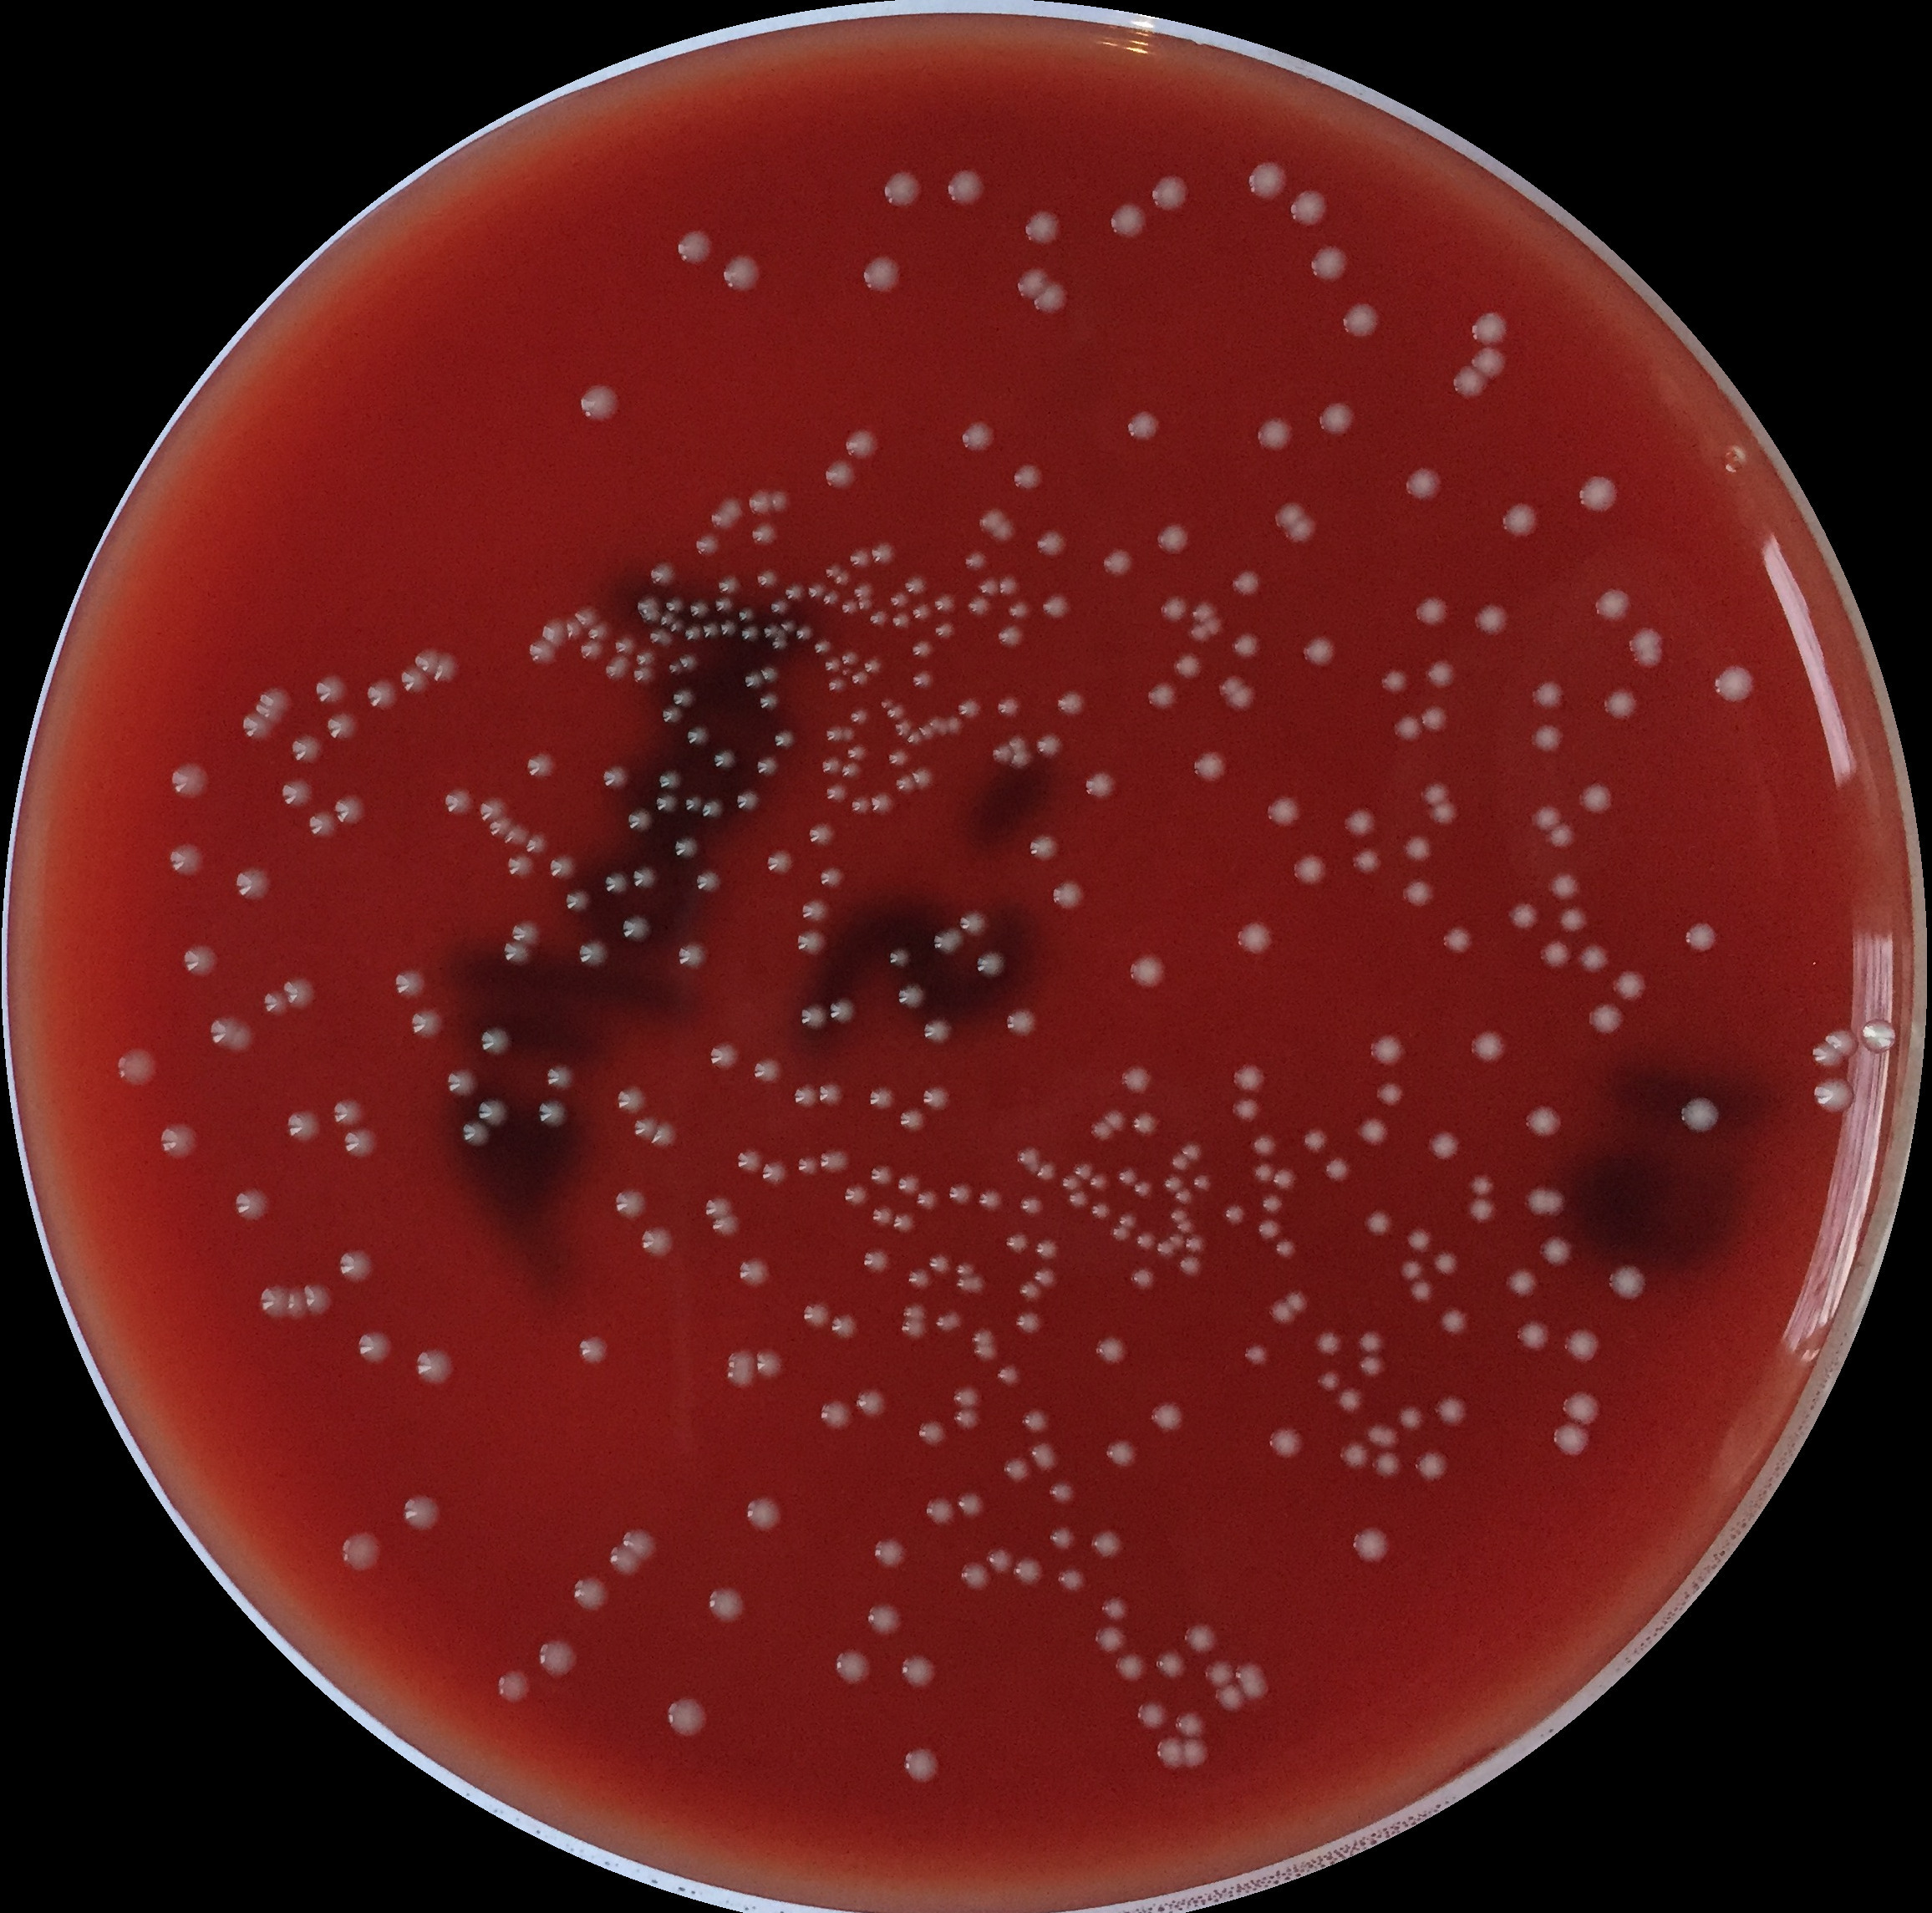sp21: (958, 1545, 1018, 1591), (858, 251, 909, 298), (878, 165, 925, 212), (662, 1694, 711, 1740), (575, 380, 625, 424), (1711, 660, 1757, 708), (112, 1044, 159, 1090), (1019, 203, 1068, 247), (1244, 159, 1293, 203), (720, 252, 765, 298), (338, 1529, 384, 1575), (674, 222, 718, 270), (944, 165, 988, 212), (1312, 396, 1359, 440), (1403, 461, 1447, 508), (1573, 473, 1620, 515), (737, 1494, 786, 1535), (1561, 1323, 1604, 1366), (534, 1638, 578, 1682), (1146, 172, 1191, 214), (1286, 187, 1331, 229), (1468, 1025, 1513, 1067), (1548, 1419, 1594, 1461), (1233, 1655, 1275, 1699), (955, 417, 1000, 457), (1340, 298, 1380, 343), (1811, 1074, 1857, 1114), (1520, 1102, 1566, 1142), (702, 1585, 748, 1626), (900, 1743, 941, 1789), (571, 1573, 617, 1613), (1520, 1184, 1569, 1221), (1049, 874, 1091, 916), (1350, 1524, 1393, 1566), (1559, 1389, 1603, 1429), (1412, 1442, 1452, 1486), (1305, 242, 1350, 280), (168, 760, 214, 799), (1109, 200, 1149, 242), (1265, 1422, 1308, 1461), (897, 1650, 941, 1689), (413, 1347, 457, 1386), (1252, 417, 1298, 454), (1501, 499, 1541, 540), (1100, 1433, 1140, 1473), (1289, 850, 1331, 888), (1233, 920, 1275, 958), (832, 1647, 874, 1685), (860, 1601, 902, 1640), (1189, 748, 1233, 785), (156, 1121, 200, 1158), (1470, 308, 1510, 347), (1128, 951, 1168, 990), (1366, 1032, 1407, 1070), (871, 1535, 911, 1573), (620, 1524, 659, 1564), (280, 974, 321, 1013), (1678, 1095, 1720, 1132), (1361, 1419, 1403, 1456), (841, 426, 885, 461), (814, 1398, 858, 1433), (356, 1328, 394, 1366), (820, 455, 860, 492), (1450, 364, 1491, 401), (1858, 1014, 1899, 1051), (1604, 1261, 1645, 1298), (1147, 1398, 1188, 1435), (1086, 1524, 1126, 1561), (401, 1494, 441, 1531), (342, 1125, 382, 1161), (310, 671, 350, 708), (1263, 794, 1305, 829), (723, 1347, 758, 1389), (179, 942, 221, 978), (1032, 280, 1070, 317), (1594, 585, 1632, 622), (1601, 685, 1638, 724), (1682, 918, 1718, 956), (1426, 1128, 1464, 1165), (1534, 1233, 1573, 1270), (611, 1186, 650, 1223), (1118, 1060, 1156, 1097), (1012, 266, 1053, 301), (1468, 343, 1508, 378), (1576, 780, 1617, 815), (335, 1249, 375, 1284), (233, 865, 273, 900), (1079, 769, 1121, 802), (1473, 599, 1510, 636), (1611, 965, 1648, 1002), (1093, 1620, 1130, 1657), (233, 1186, 270, 1223), (1123, 406, 1161, 441), (1527, 720, 1566, 755), (1412, 590, 1450, 625), (1091, 1335, 1130, 1370), (1111, 1645, 1149, 1680), (1182, 1620, 1221, 1655), (1177, 1733, 1212, 1771), (639, 1223, 674, 1261), (166, 843, 205, 878), (289, 731, 328, 766), (1338, 806, 1378, 839), (1142, 678, 1182, 711), (734, 1253, 774, 1286), (406, 1006, 447, 1039), (275, 776, 315, 809), (1011, 457, 1047, 492), (1533, 680, 1569, 715), (1349, 843, 1386, 878), (1505, 900, 1541, 935), (1587, 1002, 1624, 1037), (1356, 1114, 1393, 1149), (1503, 1265, 1540, 1300), (1515, 1317, 1552, 1352), (1028, 1438, 1063, 1475), (974, 946, 1011, 981), (392, 965, 427, 1002), (524, 745, 561, 780), (1387, 711, 1426, 745), (1154, 1734, 1188, 1773), (1400, 878, 1440, 909), (1151, 1648, 1191, 1680), (208, 1013, 240, 1053), (1442, 923, 1477, 958), (921, 1494, 956, 1529), (256, 1284, 291, 1319), (576, 1333, 611, 1368), (676, 937, 711, 972), (1270, 498, 1307, 531), (1575, 941, 1611, 974), (1231, 1060, 1268, 1093), (1433, 1394, 1470, 1428), (1354, 1324, 1391, 1358), (1009, 1554, 1046, 1587), (857, 1386, 890, 1422), (1135, 1698, 1172, 1731), (303, 1281, 336, 1317), (753, 1345, 790, 1379), (1002, 1006, 1039, 1039), (893, 979, 930, 1013), (445, 1067, 482, 1100), (475, 1097, 511, 1130), (575, 935, 611, 969), (363, 676, 399, 709), (1377, 666, 1415, 697), (240, 711, 279, 743), (433, 648, 461, 690), (1823, 1025, 1858, 1058), (1336, 1438, 1370, 1473), (1172, 1706, 1207, 1740), (287, 1109, 322, 1142), (478, 1023, 513, 1056), (1102, 547, 1137, 580), (1228, 566, 1263, 599), (1300, 636, 1335, 669), (1284, 515, 1321, 547), (1401, 832, 1438, 864), (1238, 1338, 1275, 1370), (1212, 1682, 1249, 1713), (329, 1097, 366, 1128), (930, 925, 967, 956), (440, 788, 476, 820), (913, 1417, 951, 1447), (1424, 657, 1457, 690), (1538, 937, 1571, 971), (1547, 871, 1582, 902), (1054, 687, 1089, 718), (1042, 1477, 1077, 1508), (951, 1489, 986, 1521), (956, 906, 991, 937), (797, 893, 832, 925), (331, 792, 366, 823), (1154, 522, 1189, 554), (1224, 683, 1259, 715), (494, 1671, 531, 1701), (1212, 674, 1249, 704), (1806, 1041, 1844, 1069), (286, 1282, 310, 1326), (541, 1062, 575, 1093), (1545, 820, 1578, 851), (1373, 1077, 1405, 1111), (1298, 1125, 1331, 1156), (1361, 1207, 1394, 1239), (1370, 1451, 1403, 1482), (1098, 1592, 1132, 1624), (802, 1298, 834, 1331), (615, 1083, 648, 1114), (324, 709, 357, 741), (1172, 648, 1203, 681), (1424, 797, 1459, 827), (1033, 731, 1068, 760), (998, 1452, 1033, 1482), (1203, 1657, 1238, 1687), (606, 1545, 641, 1575), (920, 1083, 955, 1112), (897, 1104, 932, 1133), (865, 1083, 900, 1112), (525, 639, 561, 669), (1627, 624, 1664, 652), (793, 928, 830, 956), (503, 939, 539, 967), (1438, 1303, 1470, 1335), (1312, 1326, 1343, 1358), (1018, 1405, 1049, 1437), (830, 1310, 862, 1342), (648, 1119, 680, 1151), (536, 1097, 568, 1128), (758, 1158, 790, 1189), (921, 1016, 953, 1048), (622, 911, 653, 942), (1231, 631, 1263, 662), (1466, 1170, 1499, 1200), (732, 1146, 765, 1175), (818, 1146, 851, 1175), (708, 1039, 741, 1069), (806, 820, 839, 850), (1026, 832, 1060, 862), (1631, 646, 1666, 674), (1555, 904, 1590, 932), (949, 1384, 984, 1412), (261, 988, 289, 1023), (510, 916, 545, 944), (1039, 592, 1074, 620), (1130, 1261, 1156, 1298), (256, 685, 293, 711), (1263, 1298, 1294, 1328), (1335, 1386, 1366, 1415), (1012, 1307, 1044, 1337), (702, 1193, 734, 1223), (860, 1246, 892, 1275), (1130, 1109, 1161, 1139), (827, 997, 858, 1027), (226, 1020, 256, 1051), (548, 851, 580, 881), (308, 808, 340, 837), (648, 561, 680, 590), (995, 622, 1026, 652), (1158, 592, 1189, 622), (1405, 1275, 1438, 1303), (1044, 1524, 1079, 1550), (709, 1212, 744, 1239), (1403, 1223, 1433, 1253), (1466, 1195, 1496, 1225), (1056, 1564, 1086, 1594), (799, 1000, 829, 1030), (538, 617, 568, 646), (603, 653, 632, 683), (1035, 527, 1065, 557), (629, 862, 657, 893), (399, 666, 427, 697), (573, 603, 604, 631), (764, 848, 795, 876), (1422, 702, 1449, 736), (1531, 804, 1564, 830), (504, 851, 538, 878), (476, 795, 510, 822), (713, 496, 746, 522), (955, 1272, 991, 1295), (462, 1118, 490, 1147), (1230, 1093, 1259, 1121), (1398, 1403, 1428, 1431), (900, 1316, 930, 1344), (816, 1079, 846, 1107), (753, 1056, 783, 1084), (657, 766, 687, 794), (871, 788, 899, 818), (1016, 1144, 1042, 1175), (993, 1359, 1026, 1384), (1322, 1154, 1350, 1182), (1433, 1247, 1461, 1275), (1396, 1256, 1424, 1284), (1018, 1191, 1046, 1219), (487, 813, 515, 841), (627, 806, 655, 834), (1251, 1130, 1280, 1156), (1254, 1216, 1284, 1242), (1357, 1352, 1387, 1379), (951, 1405, 981, 1431), (1033, 1263, 1063, 1289), (790, 1081, 820, 1107), (601, 869, 631, 895), (692, 531, 722, 557), (653, 790, 683, 816), (965, 592, 995, 618), (750, 522, 781, 547), (1249, 1160, 1277, 1186), (1258, 1189, 1286, 1216), (934, 1309, 962, 1335), (904, 1263, 930, 1291), (673, 834, 701, 860), (694, 867, 722, 893), (736, 787, 762, 815), (818, 865, 846, 892), (746, 489, 774, 515), (1219, 1202, 1249, 1226), (1032, 1237, 1061, 1261), (601, 766, 631, 790), (988, 519, 1018, 543), (1419, 781, 1450, 804), (1314, 1368, 1345, 1391), (899, 1300, 930, 1323), (585, 620, 617, 643), (1270, 1167, 1296, 1193), (844, 1181, 871, 1207), (687, 722, 713, 748), (753, 753, 779, 780), (995, 694, 1021, 720), (871, 540, 897, 566), (963, 547, 990, 573), (1182, 1233, 1210, 1258), (1002, 1228, 1030, 1253), (634, 1114, 659, 1142), (795, 1153, 820, 1181), (948, 1179, 972, 1207), (976, 1186, 1004, 1211), (564, 888, 592, 913), (413, 646, 438, 674), (503, 823, 531, 848), (524, 832, 552, 857), (699, 795, 727, 820), (955, 695, 983, 720), (848, 547, 876, 571), (1005, 597, 1033, 622), (977, 510, 1007, 533), (765, 491, 795, 513), (1282, 1286, 1307, 1312), (869, 1160, 895, 1184), (897, 1172, 921, 1198), (914, 1186, 941, 1211), (1100, 1107, 1126, 1132), (673, 685, 697, 711), (825, 780, 851, 804), (990, 741, 1016, 766), (911, 766, 935, 792), (997, 573, 1021, 599), (646, 627, 674, 650), (660, 704, 688, 727), (902, 573, 930, 596), (974, 576, 1002, 599), (1016, 1277, 1047, 1296), (1275, 1235, 1300, 1260), (869, 1202, 893, 1226), (927, 1251, 951, 1275), (1114, 1163, 1139, 1188), (1089, 1119, 1114, 1144), (716, 573, 741, 597), (713, 748, 737, 773), (1007, 731, 1032, 755), (932, 590, 956, 615), (1035, 1158, 1058, 1184), (578, 639, 604, 662), (678, 652, 704, 674), (755, 568, 781, 590), (1202, 611, 1224, 638), (564, 613, 583, 643), (1179, 1258, 1203, 1281), (1170, 1151, 1193, 1175), (892, 1209, 914, 1233), (1060, 1170, 1082, 1195), (1086, 1168, 1111, 1191), (1132, 1226, 1156, 1249), (1130, 1175, 1153, 1200), (613, 634, 638, 657), (688, 597, 713, 620), (683, 792, 706, 816), (841, 760, 865, 783), (911, 669, 935, 692), (972, 1342, 998, 1363), (886, 944, 913, 965), (886, 746, 913, 767), (1193, 601, 1219, 622), (713, 594, 736, 617), (718, 617, 741, 639), (741, 622, 764, 645), (769, 596, 792, 618), (785, 580, 807, 603), (820, 755, 843, 778), (1088, 1200, 1112, 1221), (634, 646, 659, 667), (757, 690, 781, 711), (772, 727, 797, 748), (851, 794, 872, 818), (844, 743, 869, 764), (911, 638, 935, 659), (853, 582, 878, 603), (886, 589, 911, 610), (909, 601, 934, 622), (932, 620, 956, 641), (631, 666, 657, 685), (636, 594, 662, 613), (1161, 1172, 1184, 1193), (736, 603, 758, 624), (793, 620, 814, 643), (743, 669, 765, 690), (758, 664, 781, 685), (806, 580, 829, 601), (1188, 620, 1210, 641), (970, 1326, 995, 1345), (709, 510, 734, 529), (827, 674, 851, 694), (893, 716, 913, 741), (1172, 1218, 1198, 1235), (1072, 1160, 1093, 1181), (1070, 1188, 1091, 1209), (916, 720, 937, 741), (1167, 1205, 1189, 1225), (1179, 1142, 1202, 1161), (1111, 1221, 1130, 1244), (685, 618, 704, 641), (848, 708, 871, 727), (1009, 750, 1032, 769), (860, 655, 883, 674), (946, 713, 965, 736), (955, 1260, 979, 1277), (1174, 1186, 1195, 1205), (1191, 1170, 1212, 1189), (1119, 1207, 1139, 1228), (664, 596, 685, 615), (669, 615, 688, 636), (701, 620, 722, 639), (821, 587, 841, 608), (823, 653, 843, 674), (839, 648, 860, 667), (823, 724, 844, 743), (839, 722, 858, 743), (895, 773, 914, 794), (834, 566, 851, 589), (890, 611, 913, 629), (885, 704, 909, 720), (667, 659, 687, 678), (823, 562, 843, 582), (659, 610, 680, 627), (764, 620, 781, 641), (850, 669, 871, 687), (855, 596, 876, 613), (638, 610, 660, 625), (779, 617, 797, 636), (814, 636, 832, 655), (869, 610, 888, 627), (935, 715, 949, 738), (906, 727, 923, 745), (841, 597, 858, 615), (878, 695, 897, 711), (1158, 1240, 1174, 1258), (1170, 1233, 1184, 1253), (771, 638, 788, 652), (776, 627, 790, 641), (841, 664, 855, 678), (930, 715, 942, 731)
